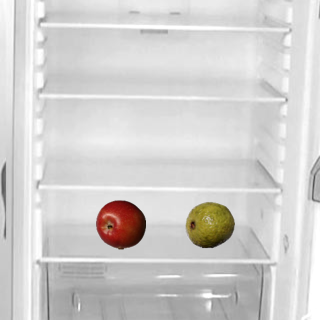Apple Braeburn: (95, 199, 145, 249)
Guava: (184, 199, 234, 249)
